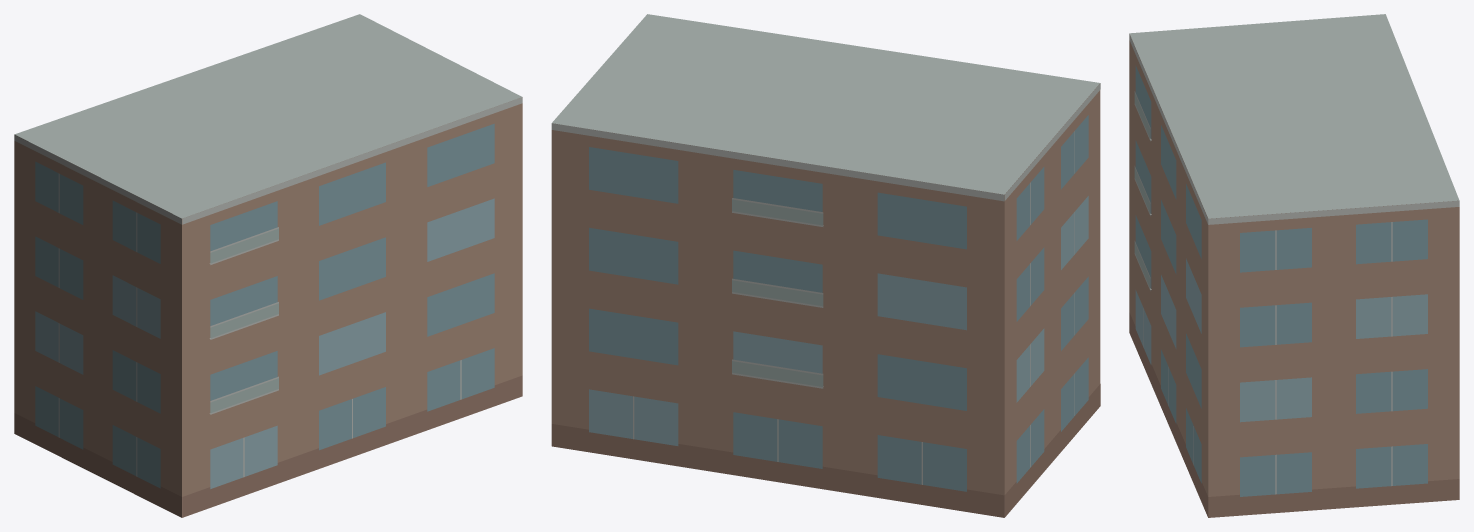
Rendered from survey-upis-32751861.glb.
The picture shows the model from 3 angles, left to right: view 1: azimuth 30°, elevation 25°; view 2: azimuth 150°, elevation 25°; view 3: azimuth 270°, elevation 25°; orthographic projection. The views are drawn at different scales.
Visible parts, largest first — view 1: survey-upis-32751861.tmp; view 2: survey-upis-32751861.tmp; view 3: survey-upis-32751861.tmp.
Part boxes in pixels (box(x1,y1,x2,y2)): survey-upis-32751861.tmp: box(14, 14, 522, 517); survey-upis-32751861.tmp: box(551, 14, 1100, 517); survey-upis-32751861.tmp: box(1129, 14, 1459, 517).
Bounding box in the file's own units: 17.17 × 11.7 × 11.71.
